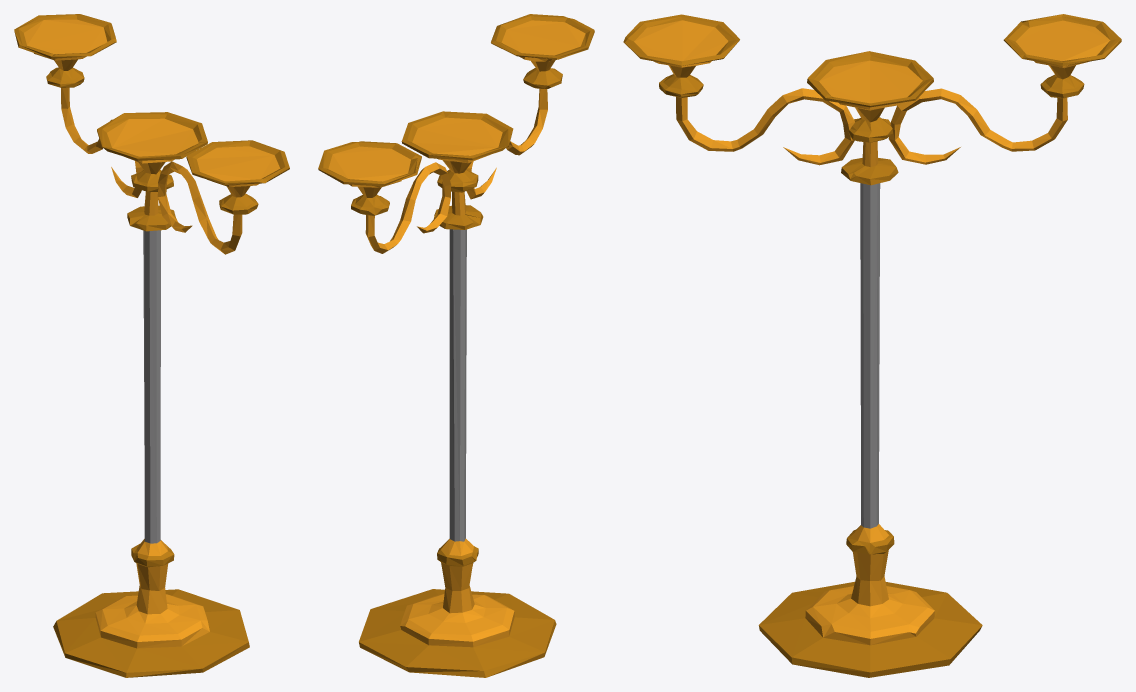
File: SFI_Chandelier_011.fbx
3 views of the same model, side by side, from view 1: azimuth 30°, elevation 25°; view 2: azimuth 150°, elevation 25°; view 3: azimuth 270°, elevation 25° (orthographic). The views are drawn at different scales.
Visible parts, largest first — view 1: SFI_Chandelier_011; view 2: SFI_Chandelier_011; view 3: SFI_Chandelier_011.
Part boxes in pixels (<box>): SFI_Chandelier_011: <box>14,14,289,677</box>; SFI_Chandelier_011: <box>318,14,594,677</box>; SFI_Chandelier_011: <box>623,14,1121,677</box>.
Bounding box in the file's own units: 45.8 × 135 × 103.
